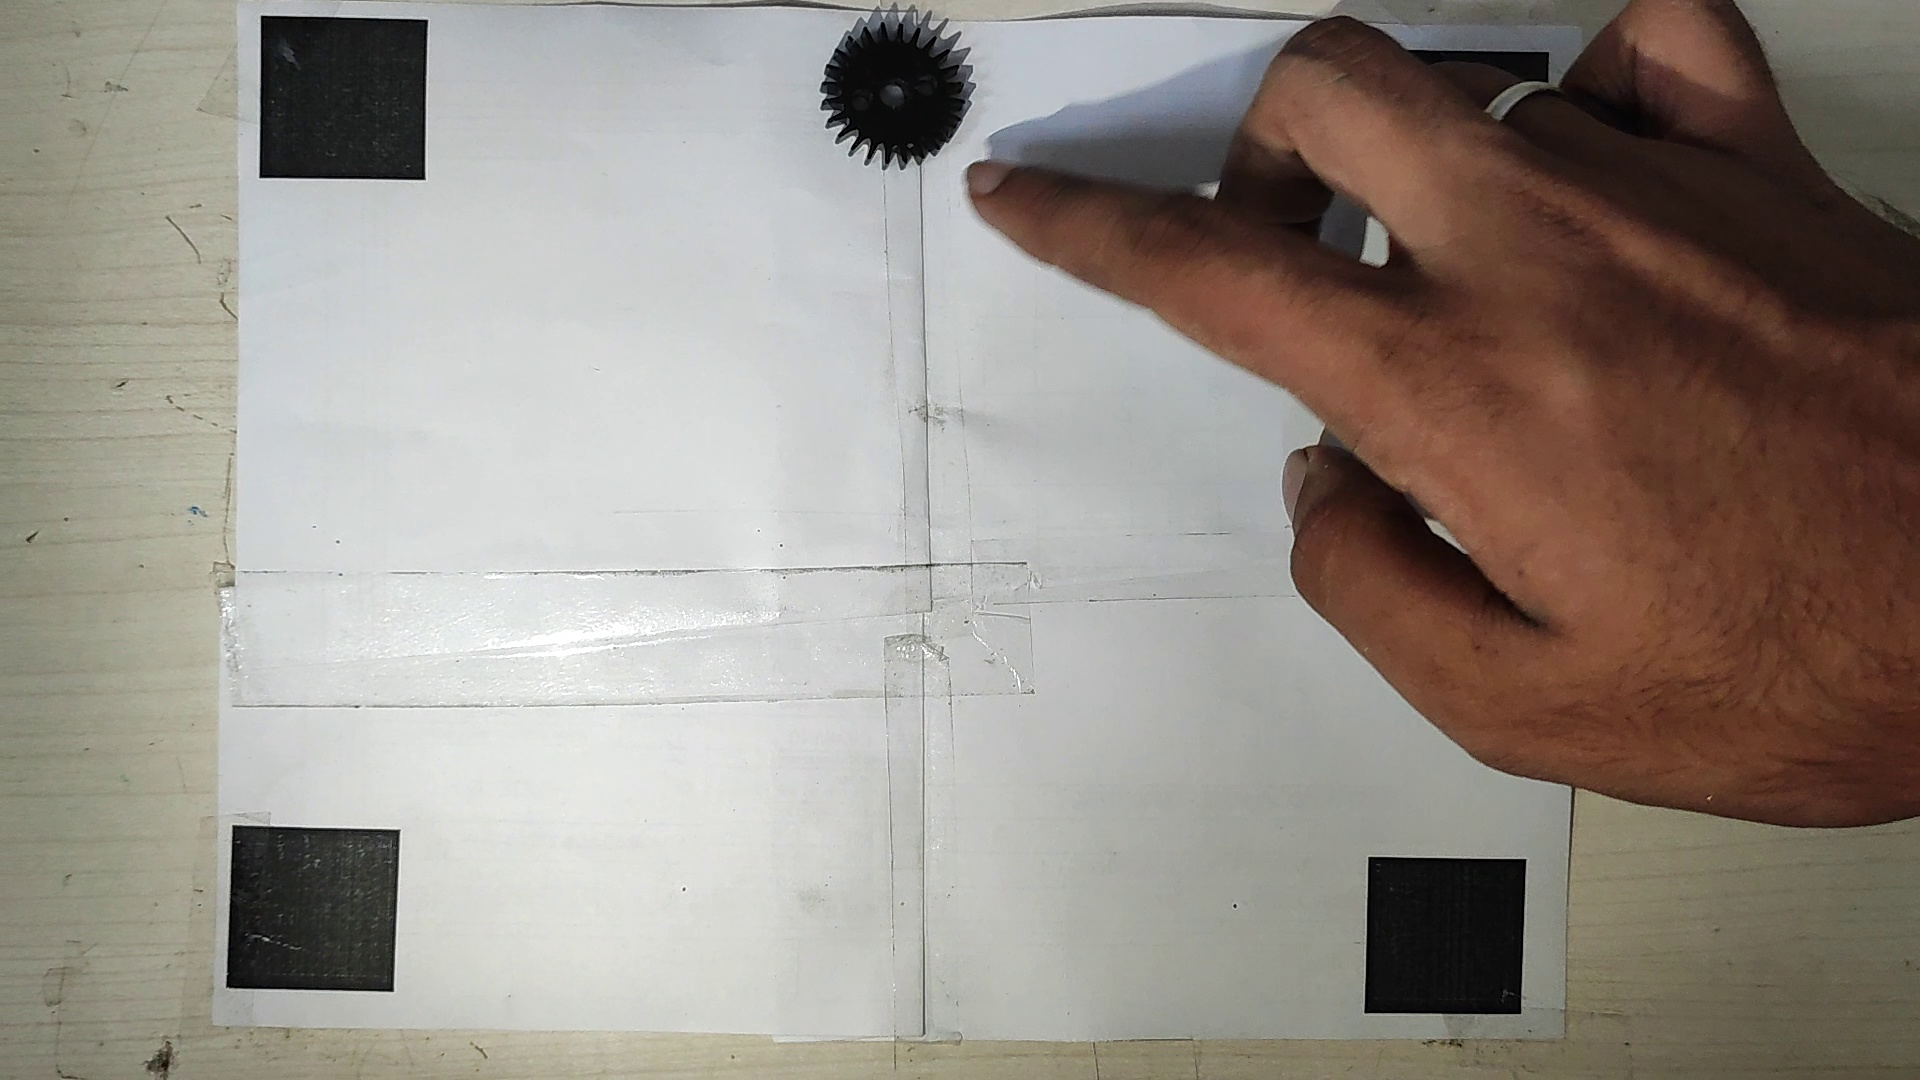Gear: (817, 14, 972, 169), (794, 308, 798, 321)
